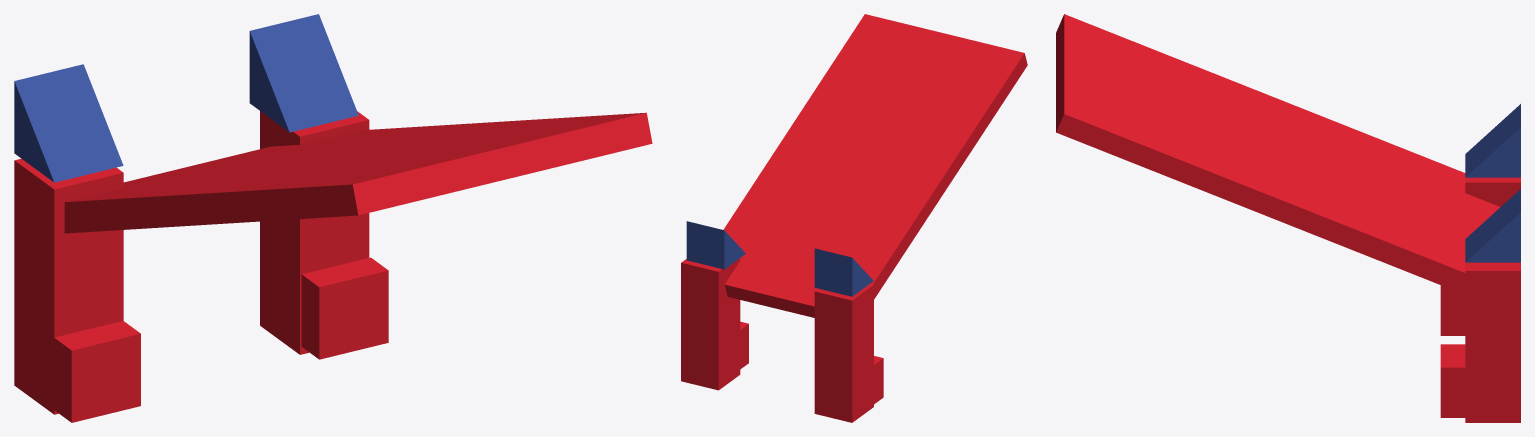
Rendered from tinker.obj.
The picture shows the model from 3 angles, left to right: view 1: azimuth 30°, elevation 25°; view 2: azimuth 150°, elevation 25°; view 3: azimuth 270°, elevation 25°; orthographic projection. The views are drawn at different scales.
Visible parts, largest first — view 1: group_0_15277357, group_0_3888547; view 2: group_0_15277357, group_0_3888547; view 3: group_0_15277357, group_0_3888547.
Boxes of the visible parts, x1=… form: group_0_15277357: x1=14, y1=111, x2=652, y2=422; group_0_3888547: x1=14, y1=14, x2=358, y2=182; group_0_15277357: x1=681, y1=14, x2=1027, y2=422; group_0_3888547: x1=686, y1=221, x2=873, y2=296; group_0_15277357: x1=1056, y1=14, x2=1520, y2=422; group_0_3888547: x1=1465, y1=104, x2=1520, y2=262.
Bounding box in the file's own units: 91.56 × 121 × 167.
